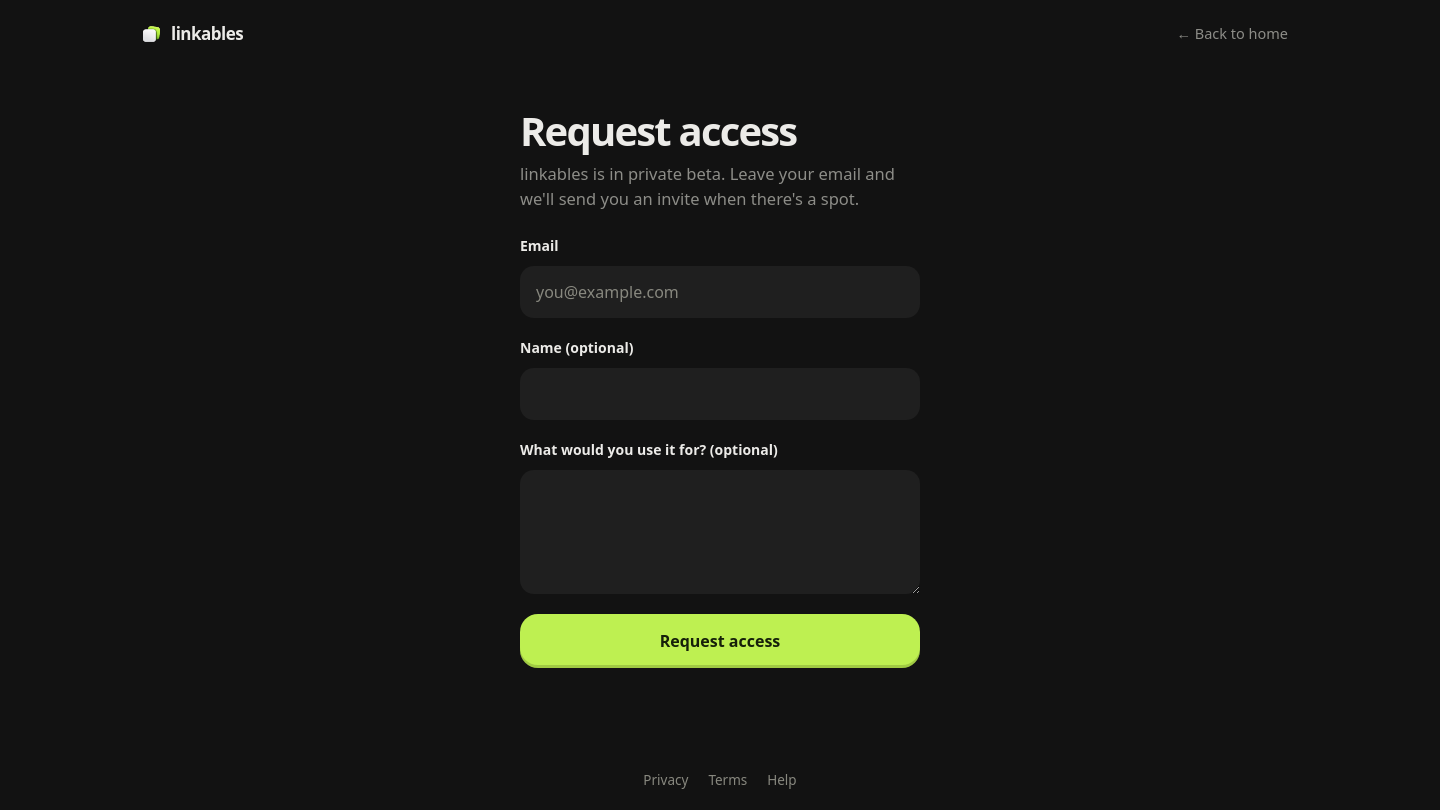
Test: request access › asks for a valid email without sending anything
Type "sam at example" into the field labelled "Email". click: (720, 292)
box: top-left (520, 266), bottom-right (920, 318)
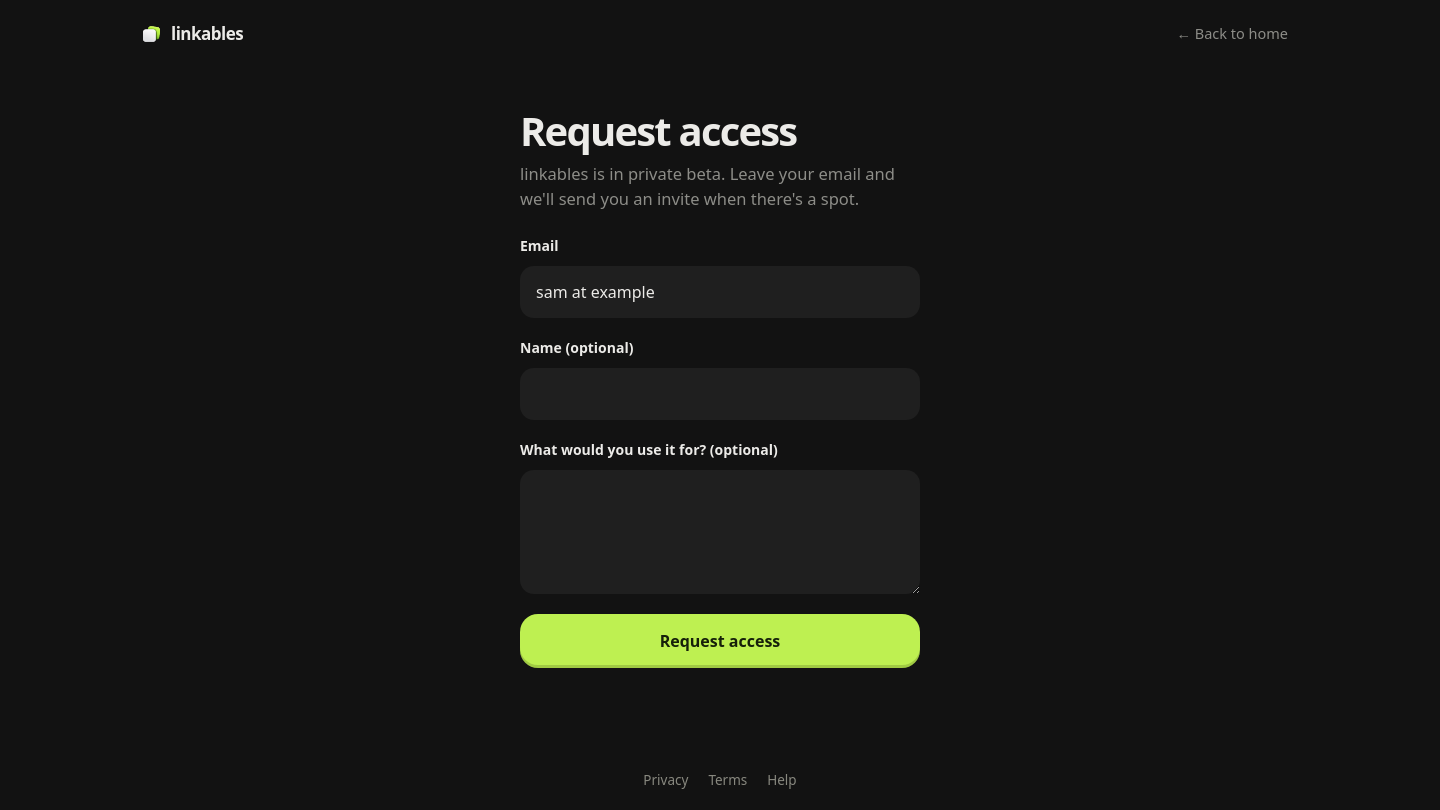
Click the button "Request access". click: (720, 641)
box: top-left (520, 614), bottom-right (920, 668)
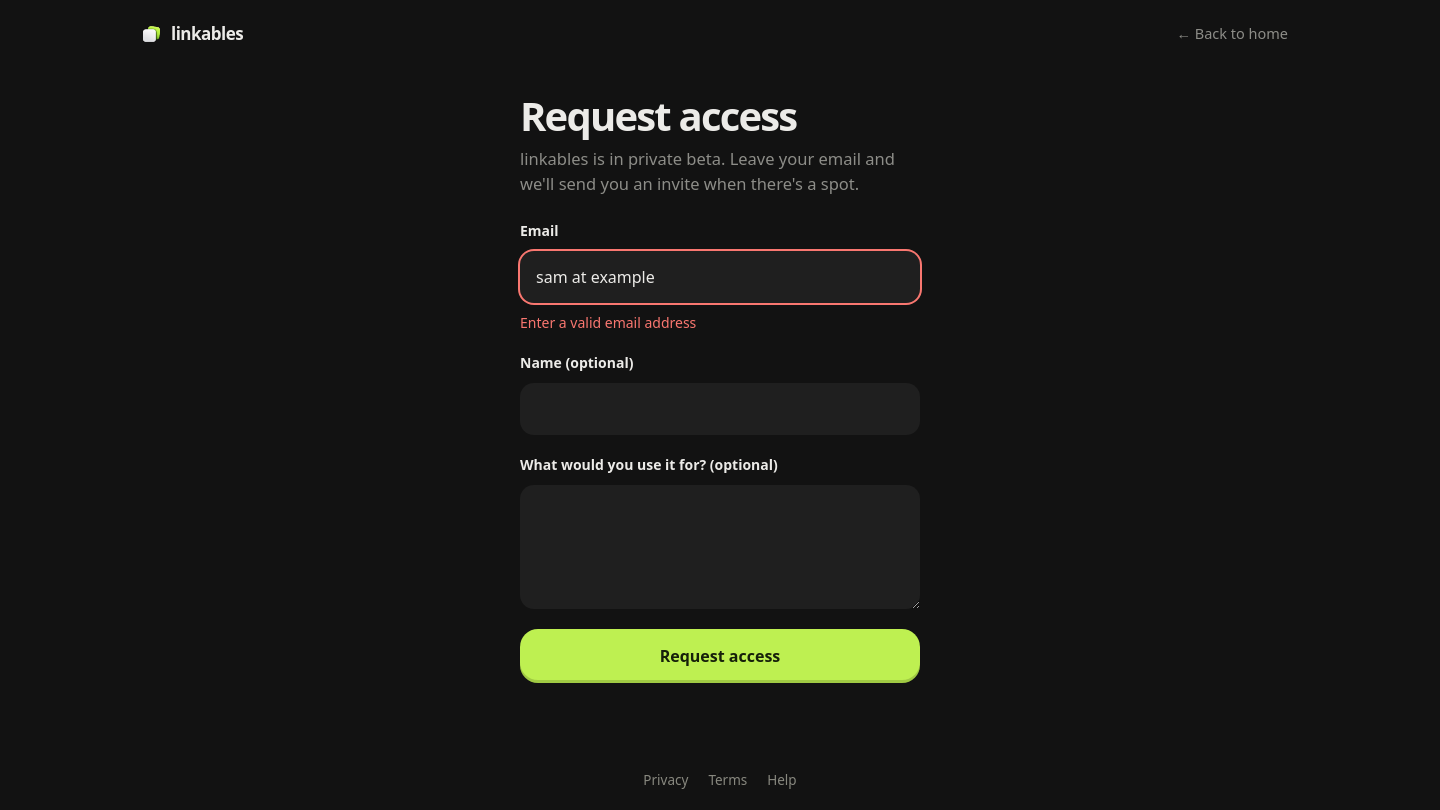
Expected: the message reads "Enter a valid email address", top-left (520, 313), bottom-right (696, 332)
